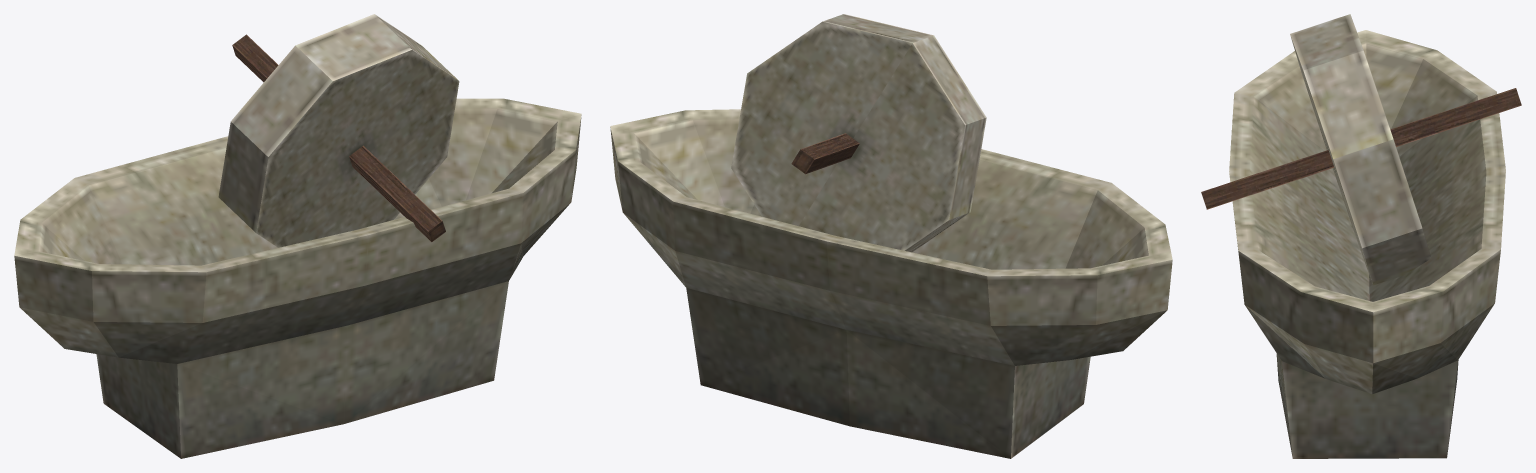
3 renders of one model, left to right at view 1: azimuth 30°, elevation 25°; view 2: azimuth 150°, elevation 25°; view 3: azimuth 270°, elevation 25°, orthographic. The views are drawn at different scales.
Parts seen in each view (by area): view 1: qingmo_obj_015 [10484291]; view 2: qingmo_obj_015 [10484291]; view 3: qingmo_obj_015 [10484291].
Boxes of the visible parts, x1=… form: qingmo_obj_015 [10484291]: x1=14, y1=14, x2=581, y2=458; qingmo_obj_015 [10484291]: x1=610, y1=14, x2=1172, y2=458; qingmo_obj_015 [10484291]: x1=1201, y1=14, x2=1521, y2=458.
Bounding box in the file's own units: 9.62 × 4.62 × 5.82.
Materials: 1 (1 with a texture image).
